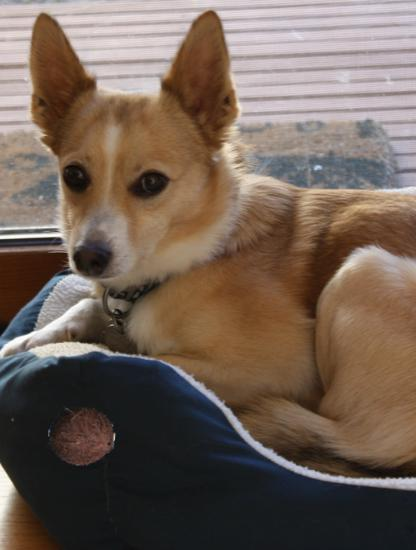Cocos: (48, 403, 116, 471)
